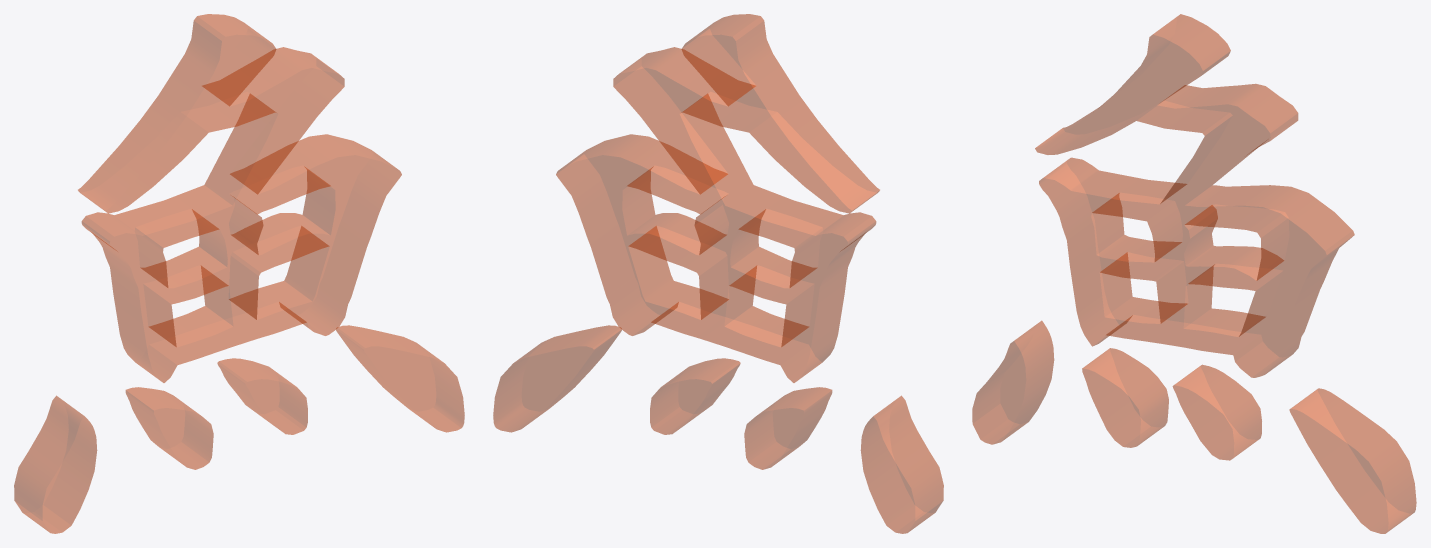
The model's file is fish_character_transparent_fbx.fbx.
The picture shows the model from 3 angles, left to right: view 1: azimuth 30°, elevation 25°; view 2: azimuth 150°, elevation 25°; view 3: azimuth 330°, elevation 25°; orthographic projection.
Parts seen in each view (by area): view 1: fish; view 2: fish; view 3: fish.
Part boxes in pixels (box(x1,y1,x2,y2)): fish: box(14, 14, 464, 533); fish: box(493, 14, 943, 533); fish: box(972, 14, 1416, 533).
Bounding box in the file's own units: 1.38 × 1.42 × 0.1602.
